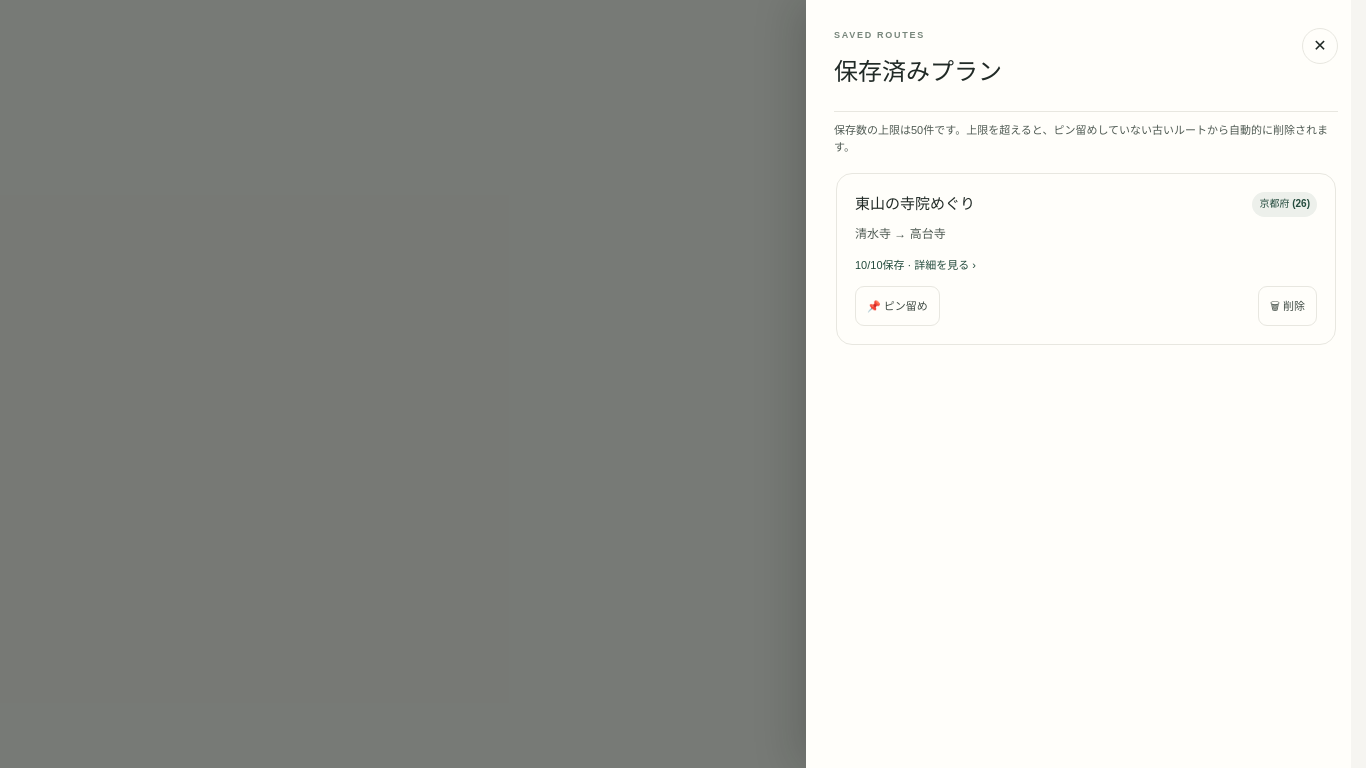
Test: SavedRoutesList › ピン留めを保存し、上限超過時もピン留めを残す
Click the button with aria-label "東山の寺院めぐりをピン留め": (897,306) [855, 286, 940, 326]
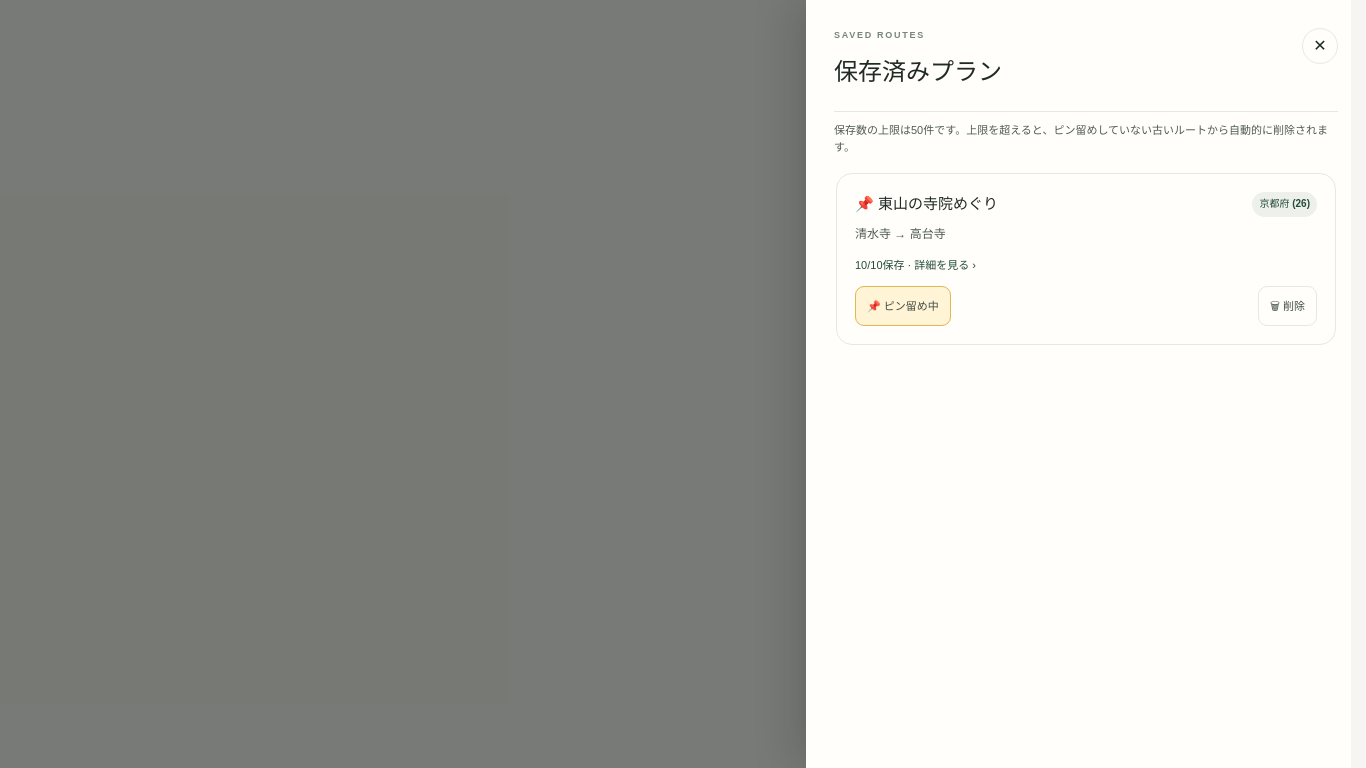
Now the button with aria-label "東山の寺院めぐりをピン留め解除" is shown, box [855, 286, 951, 326]
